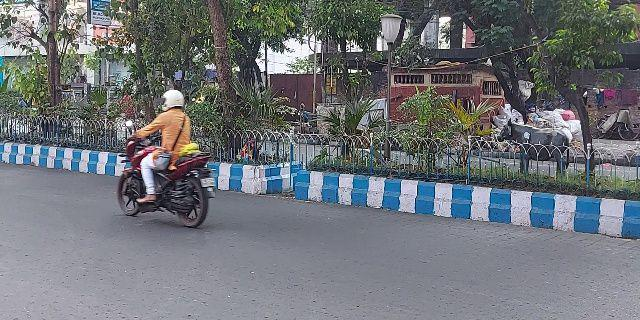Motorbike: (110, 85, 214, 232)
